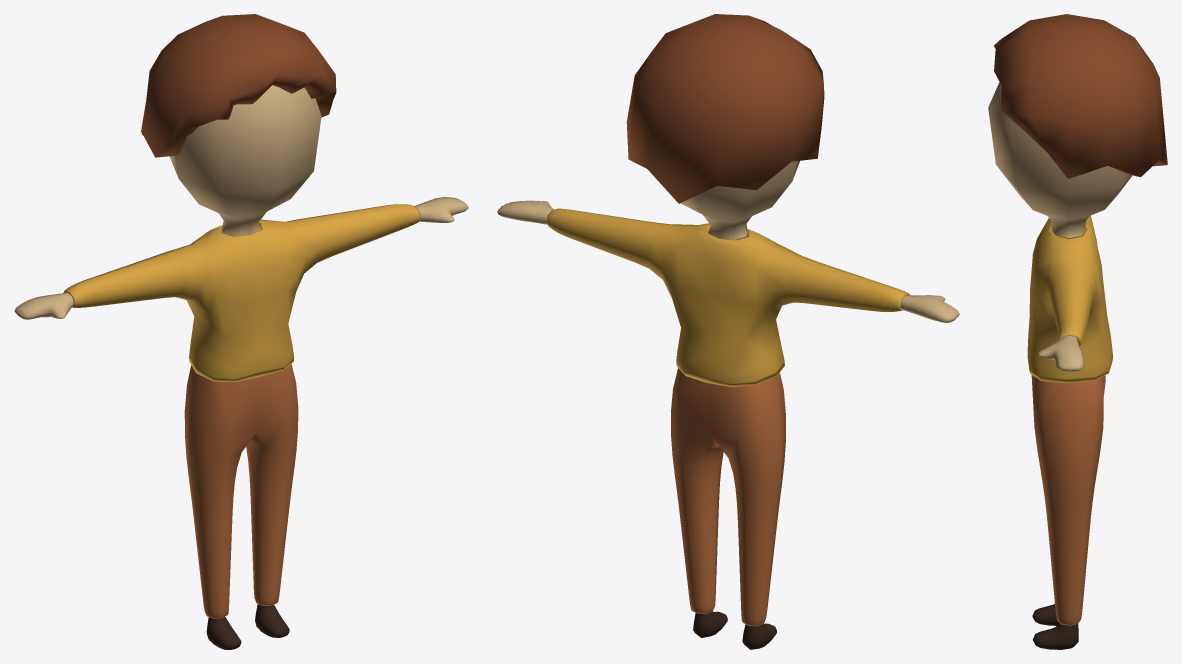
Rendered from body_man2.fbx.
3 views of the same model, side by side, from view 1: azimuth 30°, elevation 25°; view 2: azimuth 150°, elevation 25°; view 3: azimuth 270°, elevation 25° (orthographic).
Parts seen in each view (by area): view 1: shirt_man2, pant_man2, body_man2, hair_man2, shoe_man2; view 2: hair_man2, shirt_man2, pant_man2, body_man2, shoe_man2; view 3: hair_man2, pant_man2, shirt_man2, body_man2, shoe_man2.
Boxes of the visible parts, box(x1,y1,x2,y2) form: shirt_man2: box(63, 204, 420, 381); pant_man2: box(184, 364, 298, 618); body_man2: box(14, 85, 468, 319); hair_man2: box(141, 14, 336, 157); shoe_man2: box(206, 604, 289, 649); hair_man2: box(626, 14, 824, 203); shirt_man2: box(546, 208, 909, 386); pant_man2: box(671, 368, 785, 626); body_man2: box(497, 160, 959, 322); shoe_man2: box(693, 611, 776, 649); hair_man2: box(994, 14, 1167, 178); pant_man2: box(1031, 375, 1105, 625); shirt_man2: box(1027, 215, 1112, 383); body_man2: box(988, 82, 1132, 371); shoe_man2: box(1032, 604, 1078, 649).
Bounding box in the file's own units: 156 × 203 × 54.13.
